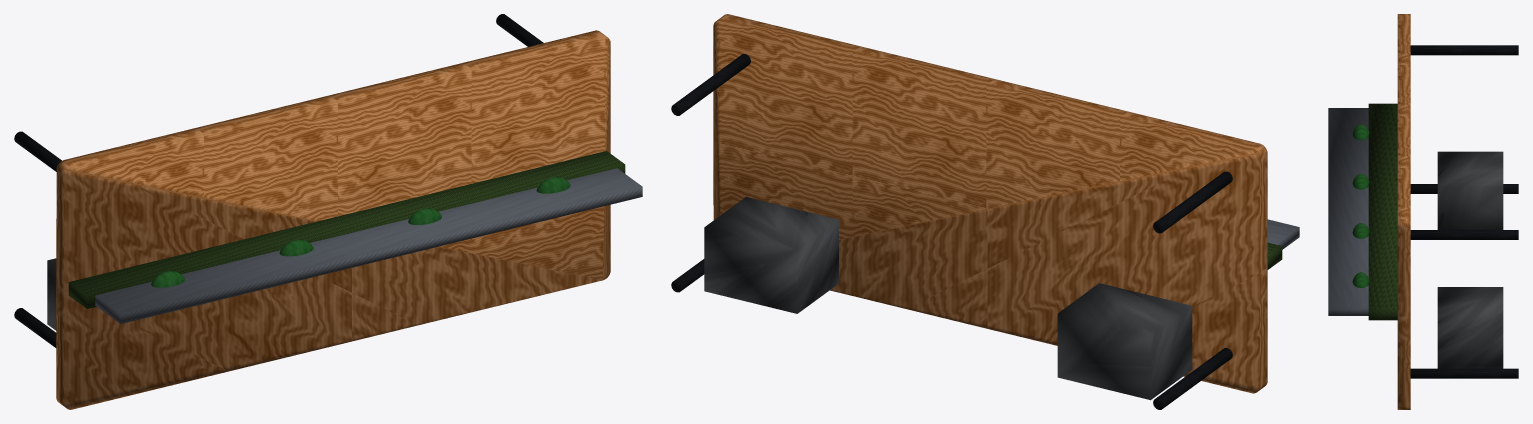
The model's file is DESK_BENCH_4P_HERO_001.glb.
The picture shows the model from 3 angles, left to right: view 1: azimuth 30°, elevation 25°; view 2: azimuth 150°, elevation 25°; view 3: azimuth 270°, elevation 25°; orthographic projection. The views are drawn at different scales.
Visible parts, largest first — view 1: bench_top_hero_000, center_privacy_panel_001, planter_divider_box_002, cabinet_011, leg_008, leg_007, leg_010; view 2: bench_top_hero_000, cabinet_011, cabinet_012, leg_008, leg_010, leg_007, center_privacy_panel_001; view 3: center_privacy_panel_001, planter_divider_box_002, bench_top_hero_000, cabinet_012, cabinet_011, leg_008, leg_009, leg_010, leg_007, desk_plant_003, desk_plant_005, desk_plant_004 (+1 smaller).
Boxes of the visible parts, x1,y1,x2,y2 form: bench_top_hero_000: (56,30,610,409); center_privacy_panel_001: (95,168,642,323); planter_divider_box_002: (68,151,625,308); cabinet_011: (47,258,56,330); leg_008: (14,131,61,171); leg_007: (14,308,56,347); leg_010: (496,14,543,46); bench_top_hero_000: (713,14,1267,393); cabinet_011: (1057,283,1192,400); cabinet_012: (704,197,838,313); leg_008: (1153,171,1232,233); leg_010: (671,54,750,115); leg_007: (1153,348,1232,409); center_privacy_panel_001: (1267,219,1299,249); center_privacy_panel_001: (1328,108,1368,315); planter_divider_box_002: (1368,103,1397,320); bench_top_hero_000: (1397,14,1410,409); cabinet_012: (1437,287,1503,368); cabinet_011: (1437,151,1503,229); leg_008: (1410,45,1518,55); leg_009: (1410,368,1518,378); leg_010: (1410,230,1518,239); leg_007: (1410,184,1518,193); desk_plant_003: (1352,124,1369,140); desk_plant_005: (1352,223,1369,238); desk_plant_004: (1352,173,1369,189).
Bounding box in the file's own units: 3.4 × 1.45 × 1.3.
6 materials, 6 textured.
